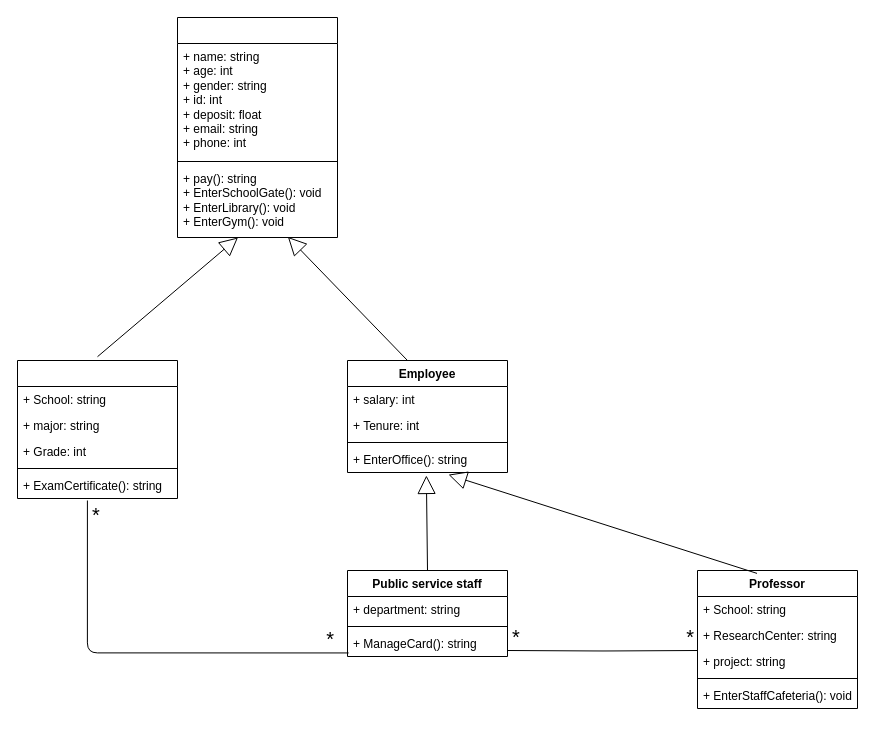
The diagram is 875 pixels wide and 729 high, and some of its shapes have lost their labels. The shapes that lost their labels are listed below. From the top down, each one's box as (x1, y1, x2, y2) in pixels, then its label:
(176, 16, 338, 238): ShanghaiTecher
(16, 360, 178, 498): Student
